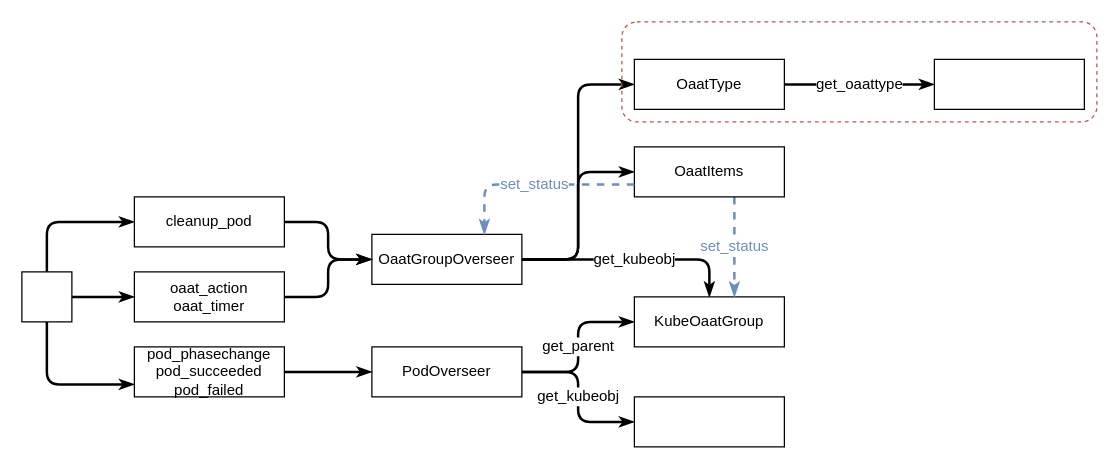
Image size: 1119x469. Some labels were removed from this diagram. The shapes that lost their labels are listed below. From the top down, each one's box as (x1, y1, x2, y2) in pixels, then its label:
(621, 21, 1097, 122): refactor as kopf.index
(933, 58, 1084, 109): KubeOaatType
(21, 271, 72, 322): kopf
(633, 396, 784, 447): Pod
